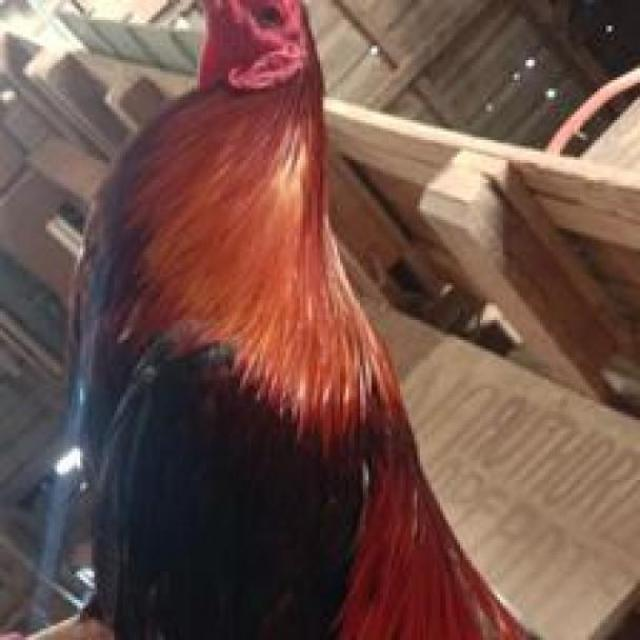Chicken: (62, 0, 532, 640)
